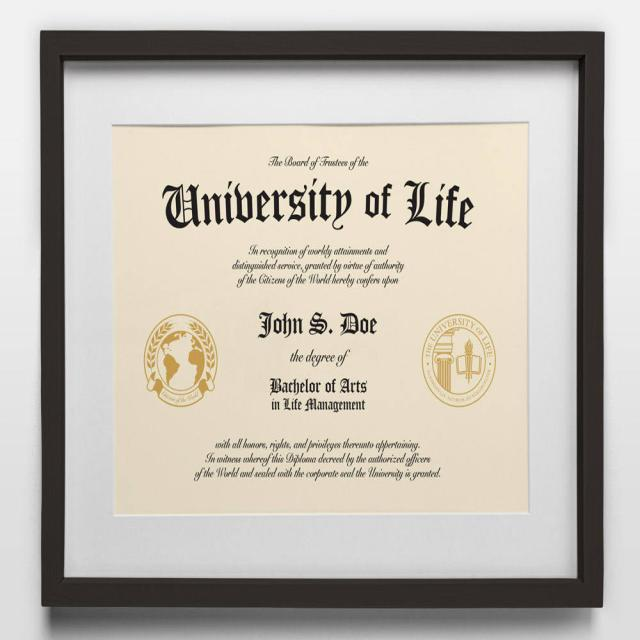stamp: (417, 310, 492, 408), (270, 376, 368, 397)
